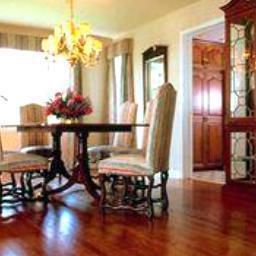Armario: (226, 3, 256, 211)
